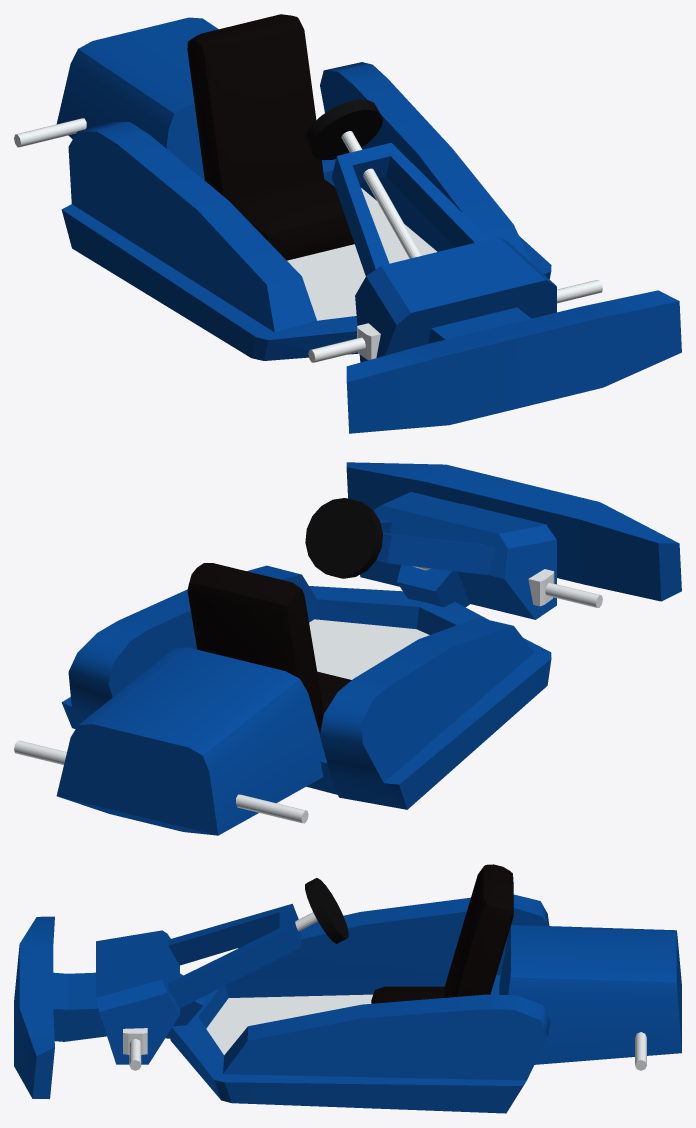
File: kart.fbx
3 renders of one model, top to bottom at view 1: azimuth 30°, elevation 25°; view 2: azimuth 150°, elevation 25°; view 3: azimuth 270°, elevation 25°, orthographic. The views are drawn at different scales.
Parts seen in each view (by area): view 1: Kart Body; view 2: Kart Body; view 3: Kart Body.
Part boxes in pixels (x1,y1,x2,y2): Kart Body: (14,14,681,433); Kart Body: (14,462,681,835); Kart Body: (14,864,681,1113).
Size of the model in its own units: 51.64 by 28.01 by 103.
